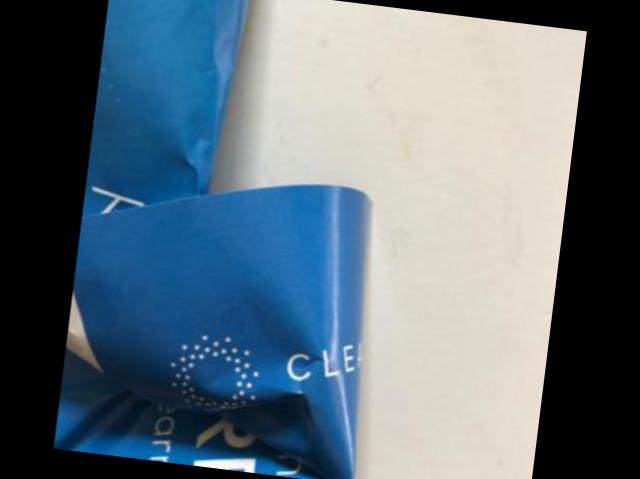cardboard paper: (53, 183, 372, 479)
